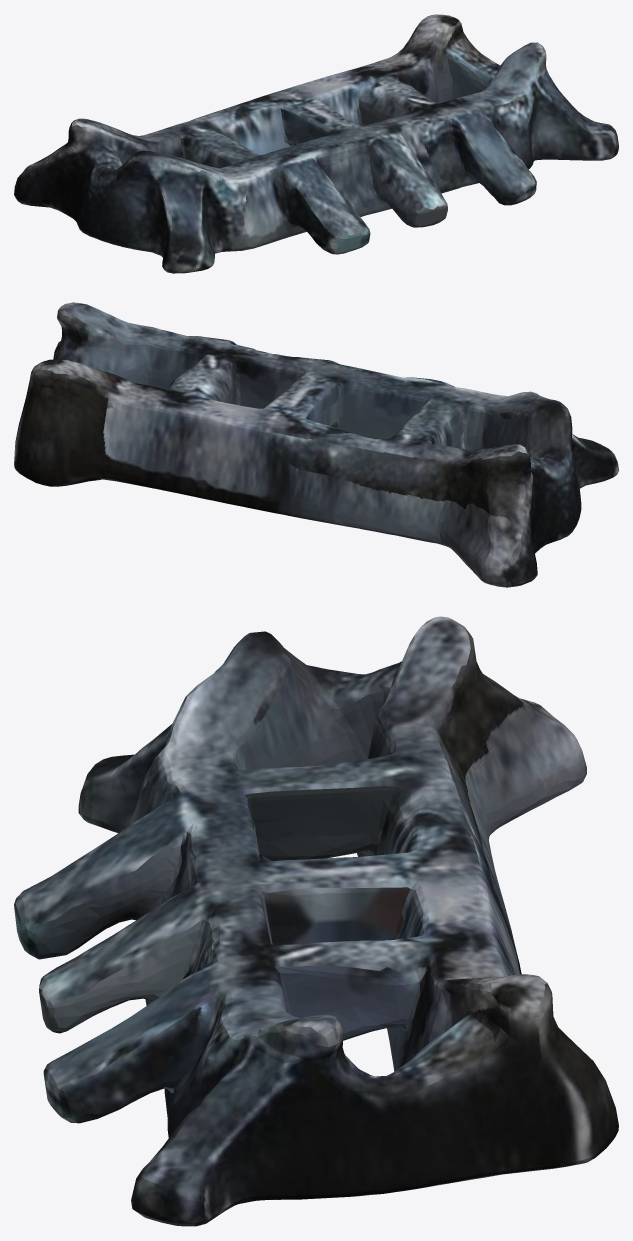
The model's file is barricade.glb.
The picture shows the model from 3 angles, top to bottom: view 1: azimuth 30°, elevation 25°; view 2: azimuth 150°, elevation 25°; view 3: azimuth 270°, elevation 25°; orthographic projection. The views are drawn at different scales.
Parts seen in each view (by area): view 1: tmptk44xx8w.ply.001; view 2: tmptk44xx8w.ply.001; view 3: tmptk44xx8w.ply.001.
Boxes of the visible parts, <box> form: tmptk44xx8w.ply.001: <box>14,14,618,273</box>; tmptk44xx8w.ply.001: <box>14,302,618,587</box>; tmptk44xx8w.ply.001: <box>14,616,618,1226</box>.
Size of the model in its own units: 1 by 0.1704 by 0.5398.
1 material, 1 textured.
